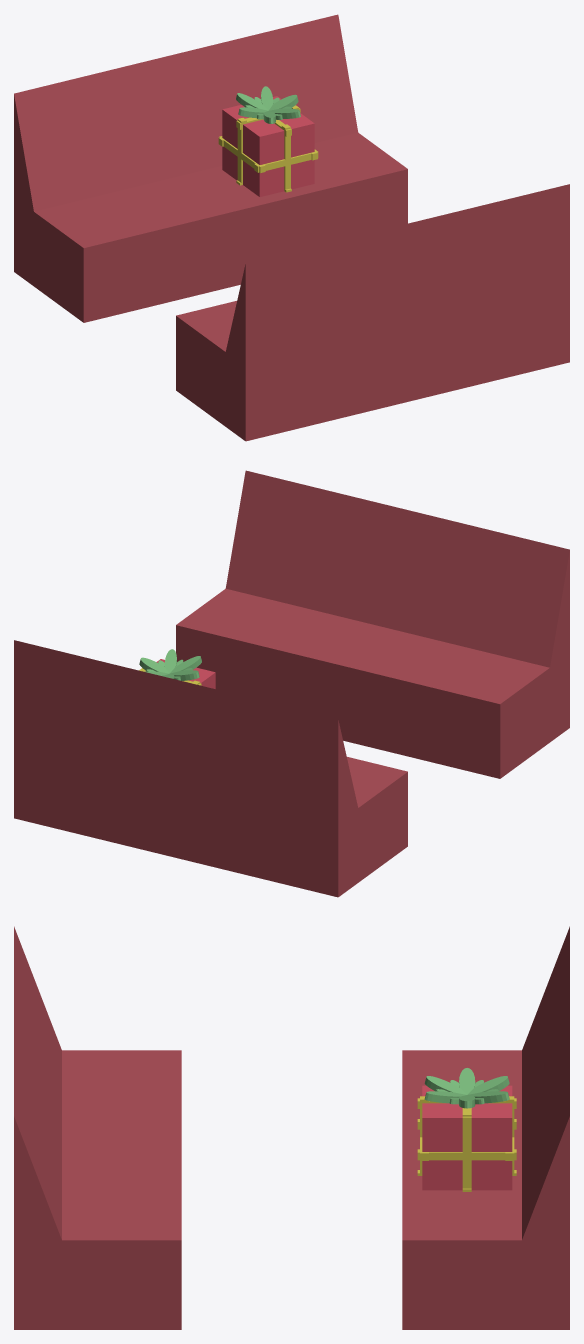
Rendered from uhr.gltf.
3 renders of one model, top to bottom at view 1: azimuth 30°, elevation 25°; view 2: azimuth 150°, elevation 25°; view 3: azimuth 270°, elevation 25°, orthographic. The views are drawn at different scales.
Visible parts, largest first — view 1: Mesh_Mesh_head_geo.001_lambert2SG.001; view 2: Mesh_Mesh_head_geo.001_lambert2SG.001; view 3: Mesh_Mesh_head_geo.001_lambert2SG.001.
Part boxes in pixels (bbox=[...]): Mesh_Mesh_head_geo.001_lambert2SG.001: bbox=[14, 14, 569, 441]; Mesh_Mesh_head_geo.001_lambert2SG.001: bbox=[14, 470, 569, 897]; Mesh_Mesh_head_geo.001_lambert2SG.001: bbox=[14, 926, 569, 1329].
Size of the model in its own units: 59 by 31 by 73.
